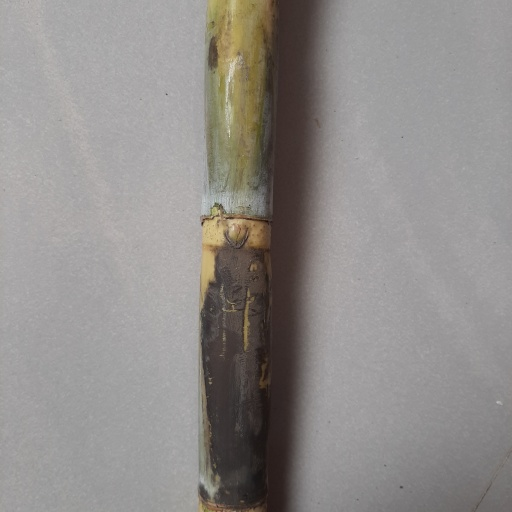Bud: (222, 221, 249, 247)
